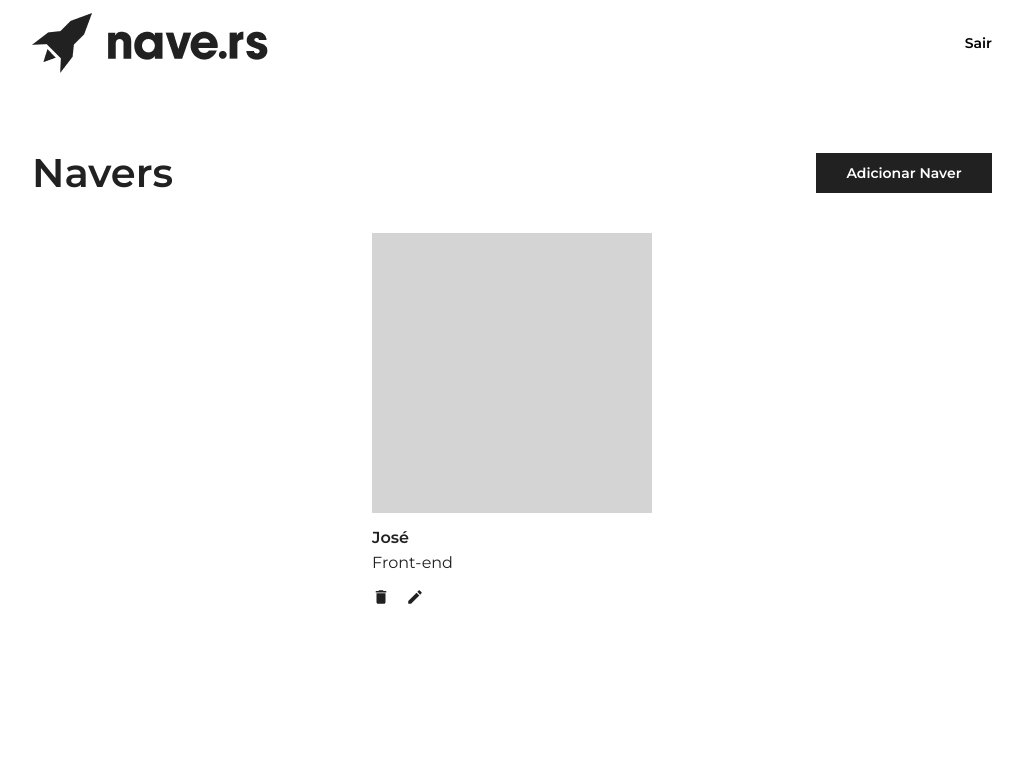
Home page › should be able to display modal info
expect the heading "José" is shown: met, box [372, 528, 409, 547]
expect the text "Front-end" is shown: met, box [372, 553, 453, 572]
Click the button with test id "remove-naver-1" at (381,597), box [372, 588, 390, 606]
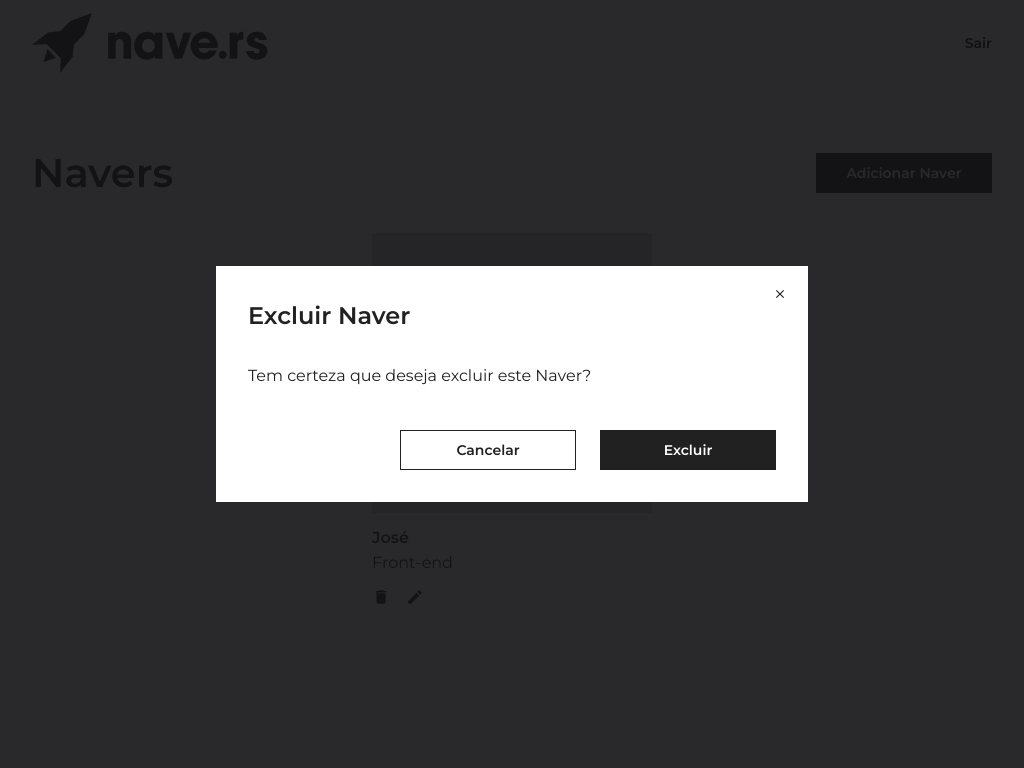
Click the button with test id "modal-delete-button" at (688,450), box [600, 430, 776, 470]
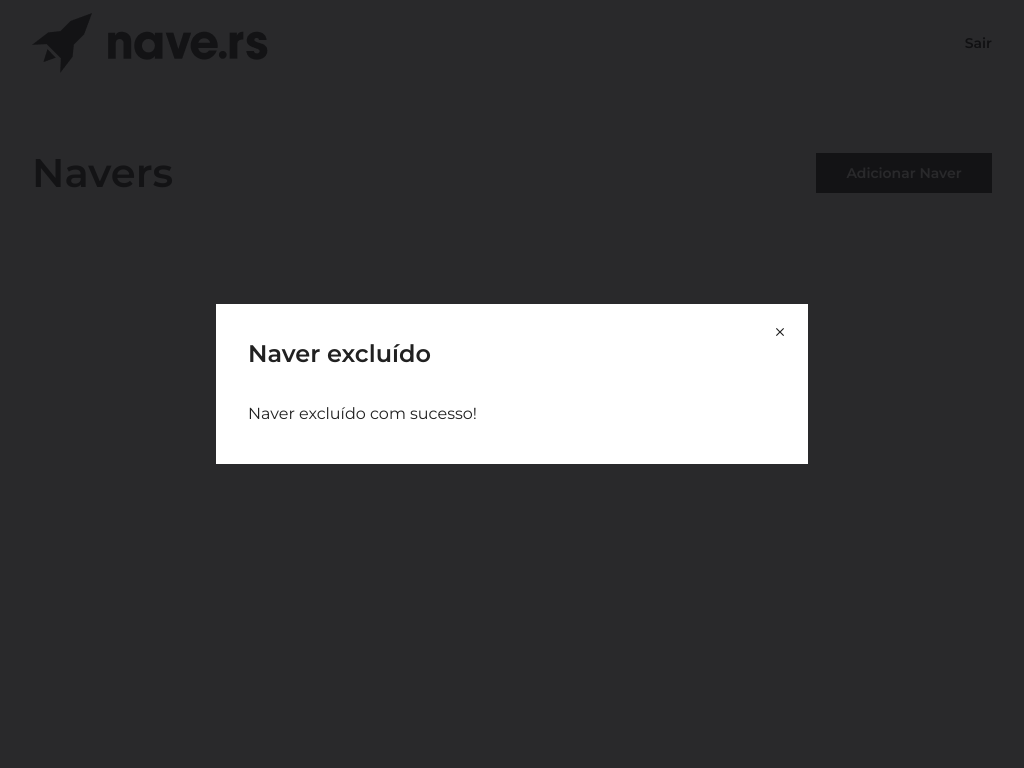
expect the heading "Naver excluído" is shown: met, box [248, 339, 431, 368]
